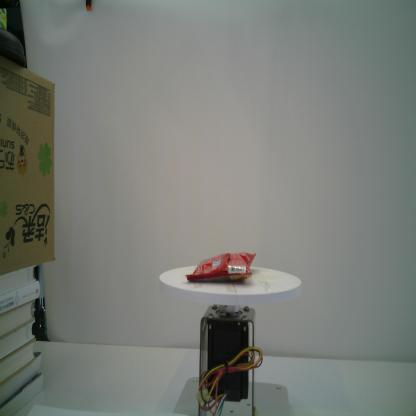Instant Drink: (184, 250, 257, 284)
